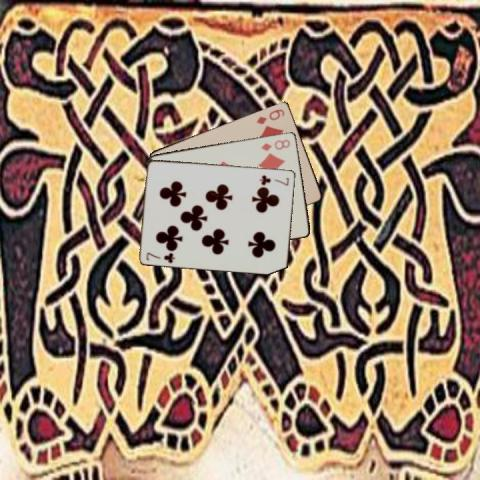6d: (253, 106, 286, 125)
7c: (257, 172, 291, 187), (143, 249, 177, 264)
8d: (258, 136, 291, 152)
